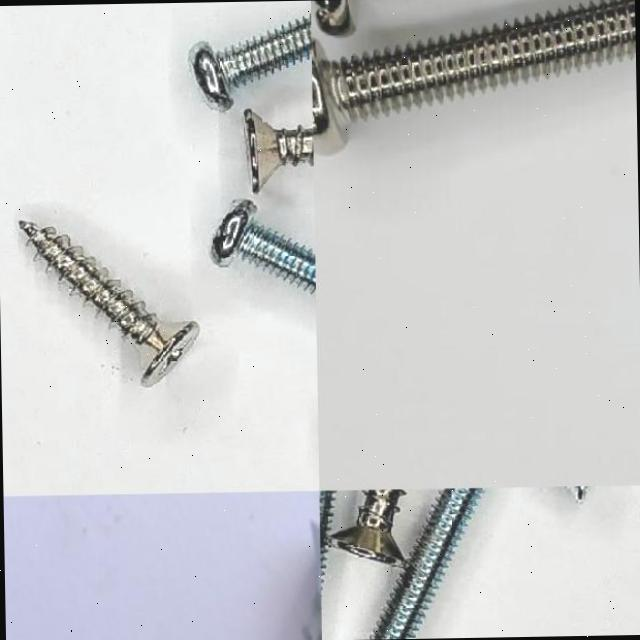Screw: (311, 0, 635, 153), (17, 220, 198, 387), (370, 487, 485, 639), (188, 12, 311, 110), (209, 199, 315, 293), (328, 489, 404, 567), (244, 108, 313, 192)
